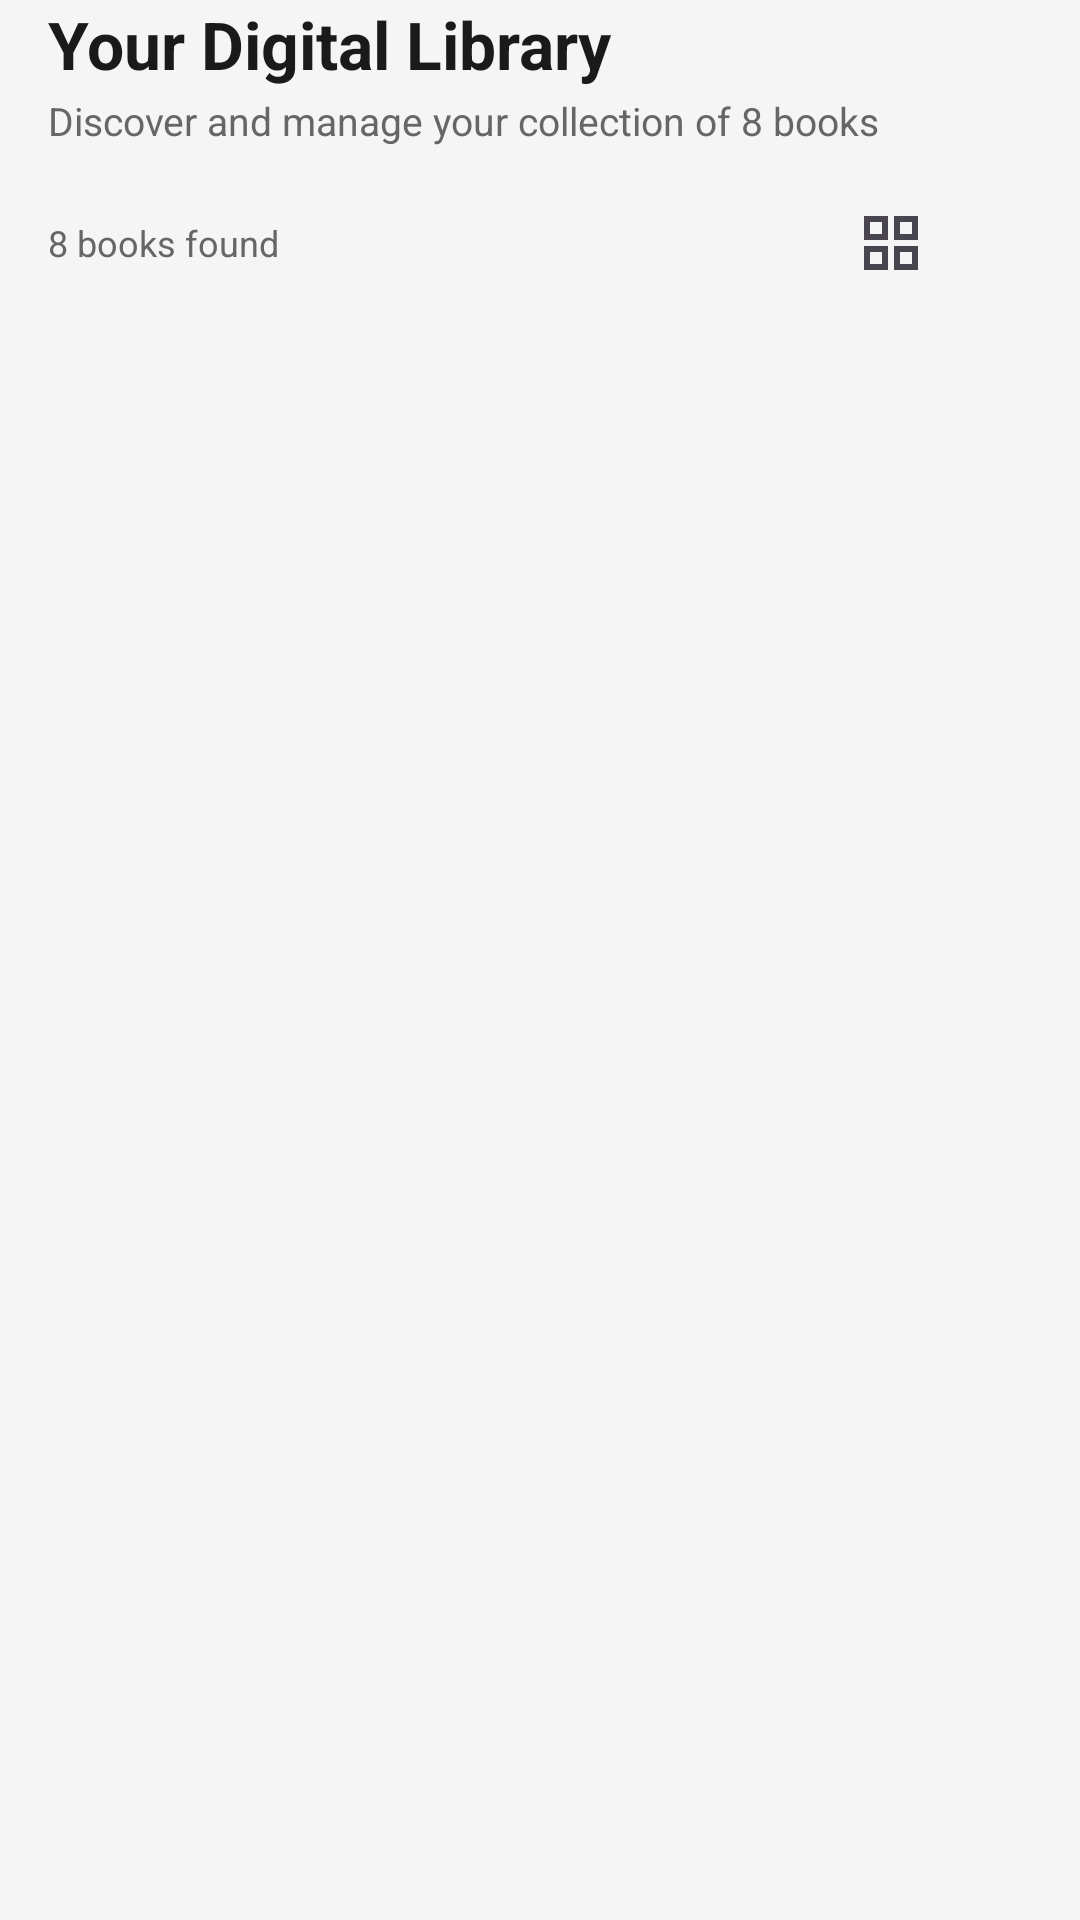

Icons on this 1080×1920 Android screen, each with its box as (x1, y1, x2, y2):
Grid View: (864, 216, 918, 270)
